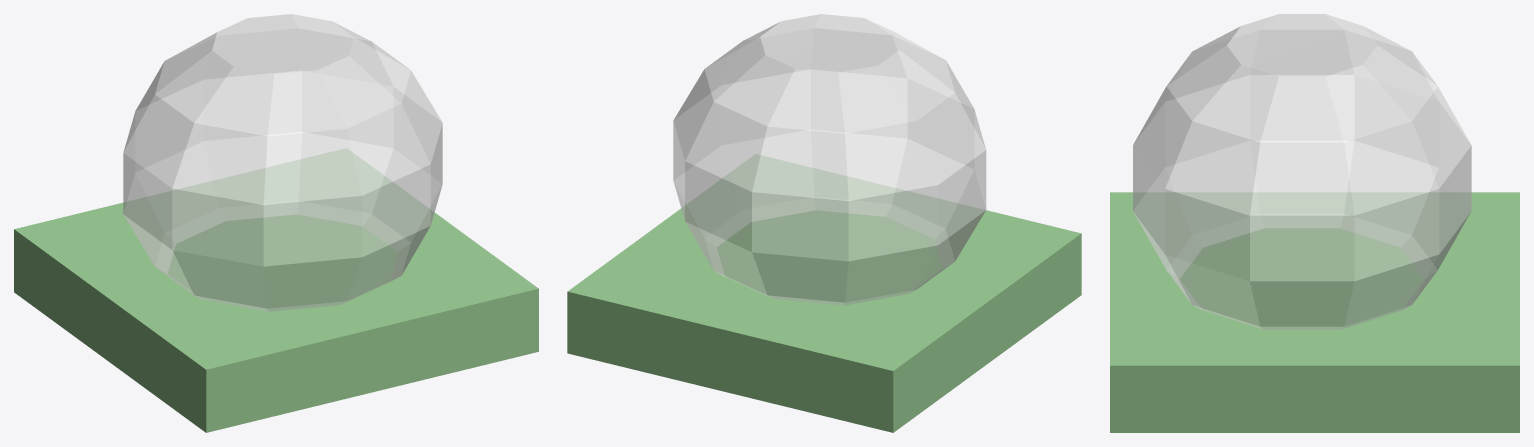
The model's file is car_green_x.dae.
3 renders of one model, left to right at view 1: azimuth 30°, elevation 25°; view 2: azimuth 150°, elevation 25°; view 3: azimuth 270°, elevation 25°, orthographic. The views are drawn at different scales.
Visible parts, largest first — view 1: car_red_010; view 2: car_red_010; view 3: car_red_010.
Boxes of the visible parts, x1,y1,x2,y2 form: car_red_010: (14, 14, 538, 432); car_red_010: (567, 14, 1081, 432); car_red_010: (1110, 14, 1519, 432).
Bounding box in the file's own units: 0.6326 × 0.6326 × 0.5131.
